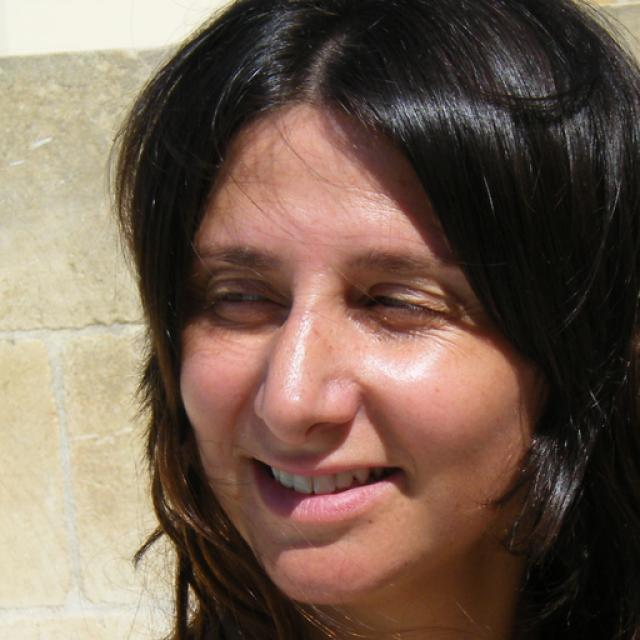happy: (177, 74, 538, 606)
